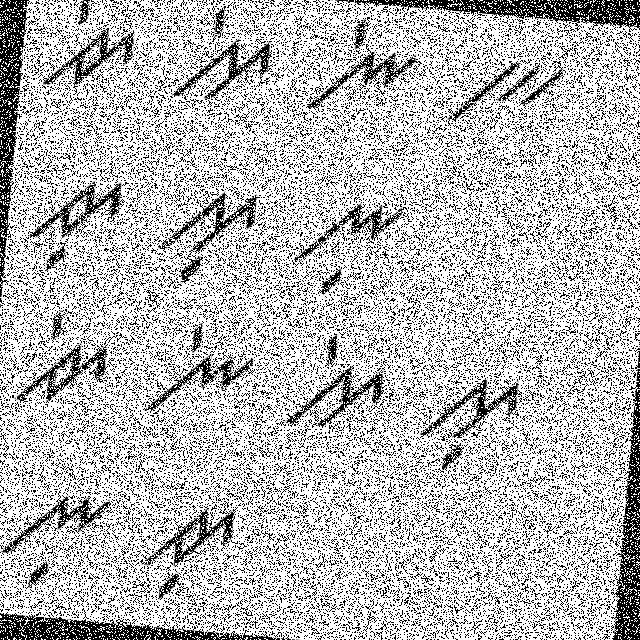je: (12, 299, 118, 411), (33, 0, 146, 105)
ju: (132, 494, 248, 616), (21, 160, 131, 280)
nye: (294, 8, 427, 122), (136, 311, 260, 433)
nyu: (0, 471, 116, 604), (286, 182, 408, 306)
se: (276, 320, 398, 446), (167, 0, 285, 107)
su: (150, 170, 270, 294), (412, 358, 530, 478)
